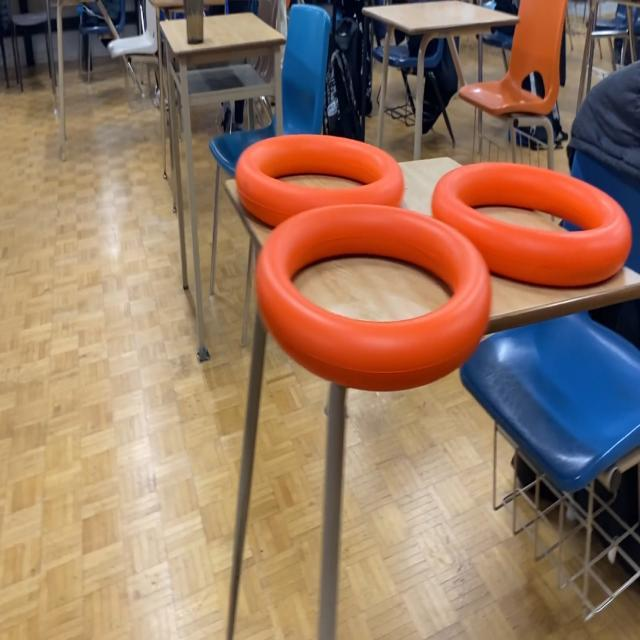note: (252, 204, 492, 396), (430, 159, 632, 291), (238, 132, 405, 228)
